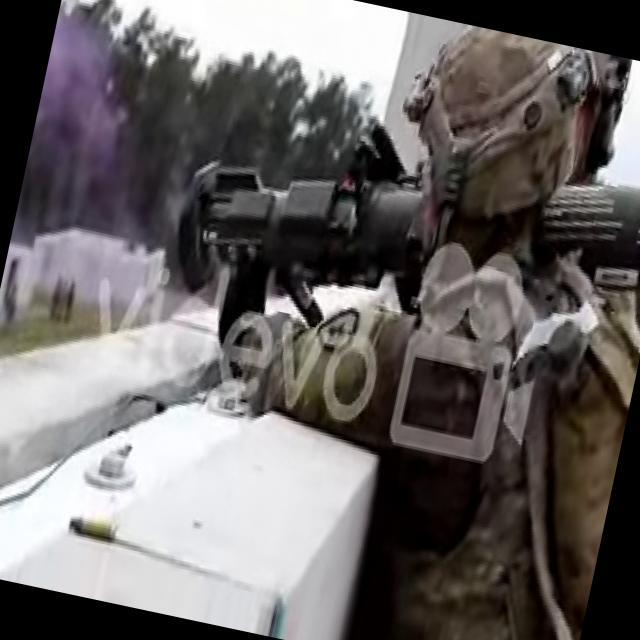rocket: (172, 83, 640, 384)
